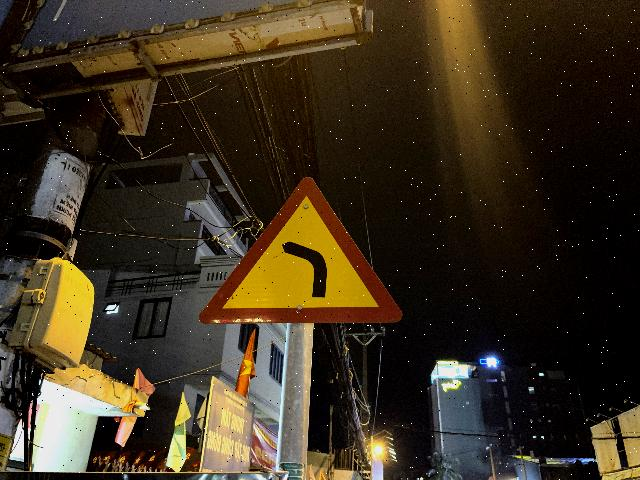cho-ngoat-nguy-hiem-ben-phai: (197, 175, 404, 325)
